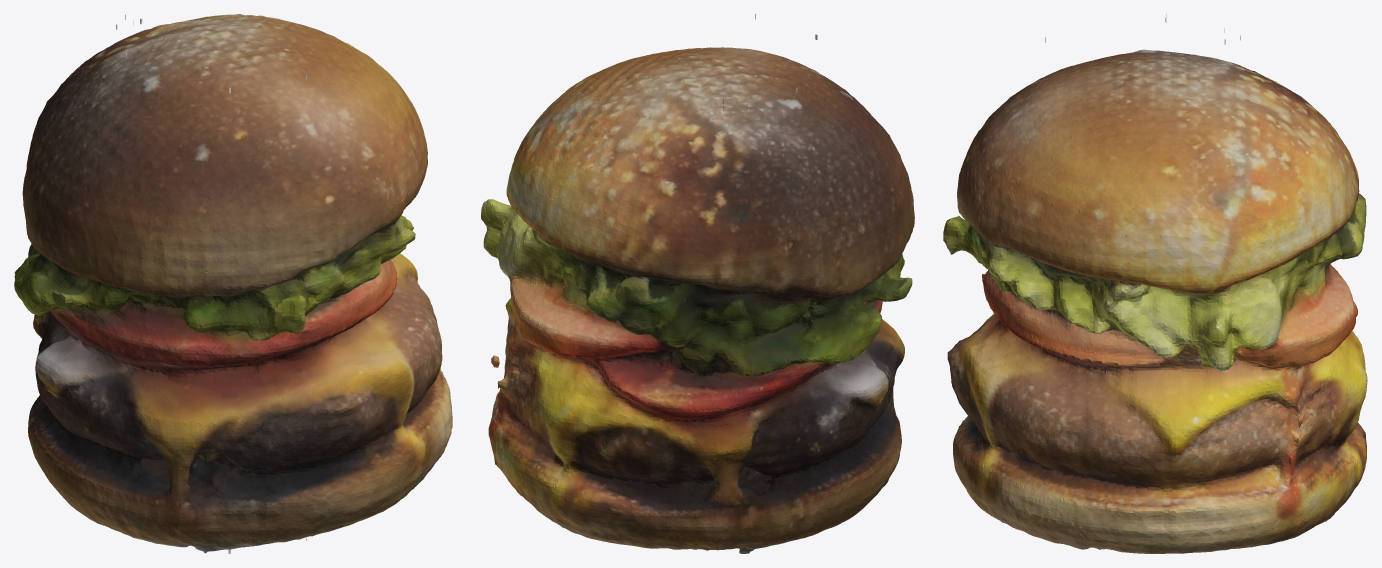
The model's file is dish1.glb.
3 renders of one model, left to right at view 1: azimuth 30°, elevation 25°; view 2: azimuth 150°, elevation 25°; view 3: azimuth 270°, elevation 25°, orthographic. The views are drawn at different scales.
Parts seen in each view (by area): view 1: world; view 2: world; view 3: world.
Boxes of the visible parts, x1=… form: world: x1=14, y1=14, x2=452, y2=553; world: x1=481, y1=14, x2=914, y2=553; world: x1=943, y1=14, x2=1367, y2=553.
Bounding box in the file's own units: 1.85 × 2.08 × 1.78.
